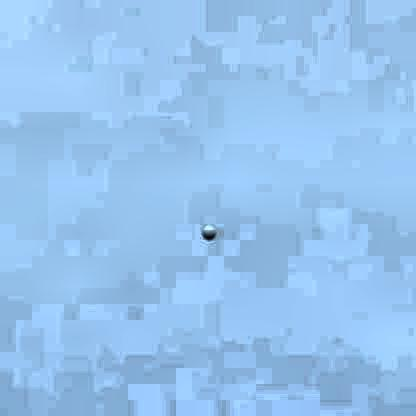golfball: (198, 220, 216, 238)
